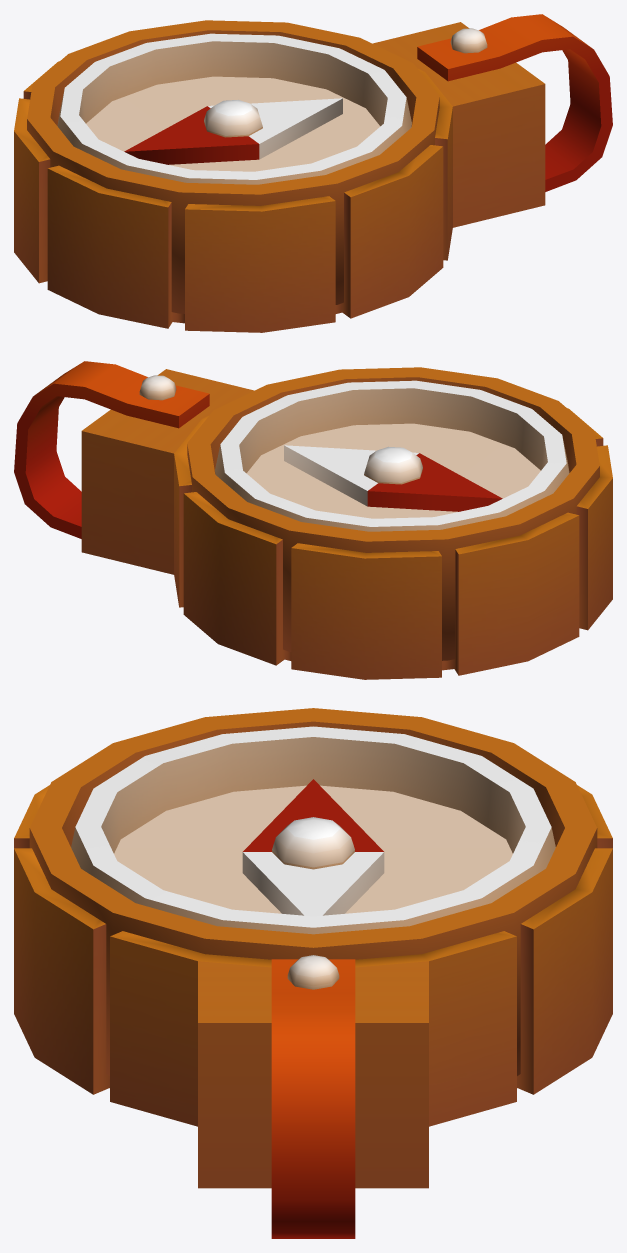
The model's file is obj_Compass.fbx.
3 views of the same model, one above another, from view 1: azimuth 30°, elevation 25°; view 2: azimuth 150°, elevation 25°; view 3: azimuth 270°, elevation 25° (orthographic). The views are drawn at different scales.
Parts seen in each view (by area): view 1: obj_Compass; view 2: obj_Compass; view 3: obj_Compass.
Part boxes in pixels (bbox=[...]): obj_Compass: bbox=[14, 14, 612, 332]; obj_Compass: bbox=[14, 361, 612, 679]; obj_Compass: bbox=[14, 708, 612, 1238].
Bounding box in the file's own units: 25.03 × 7.53 × 17.17.
